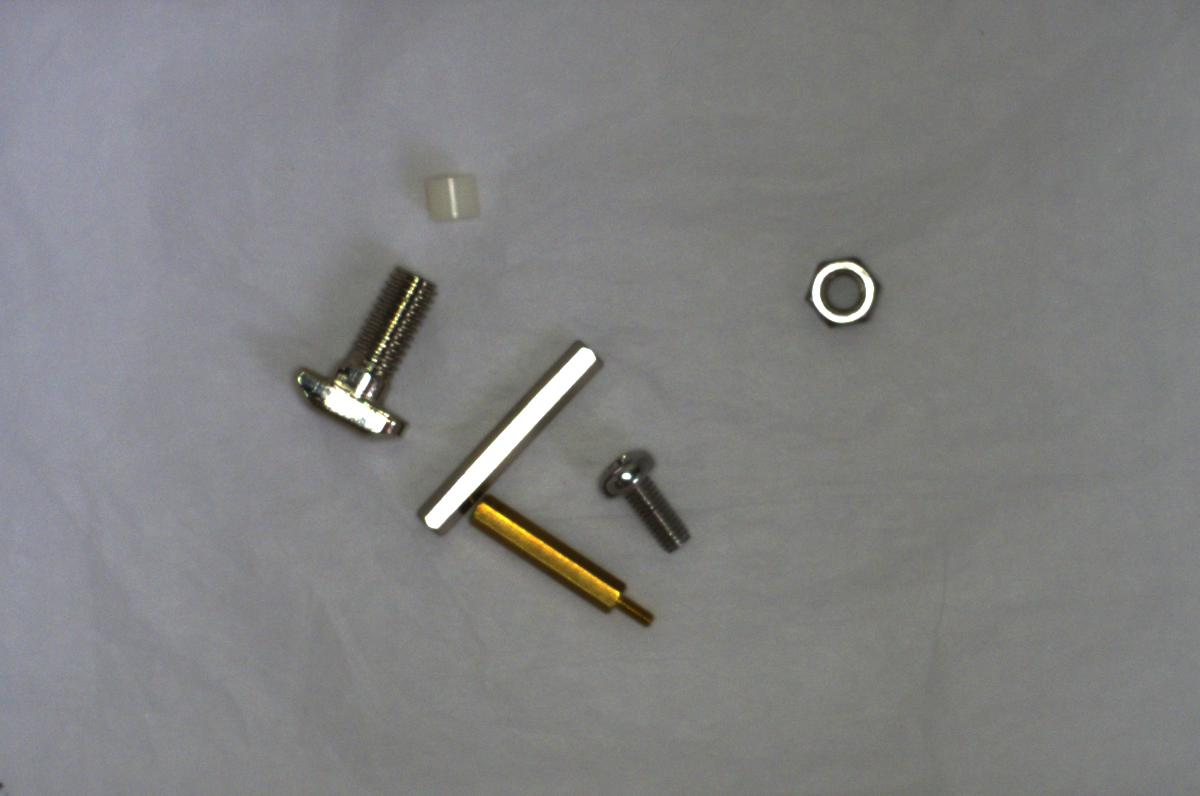Double hexagonal column: (406, 334, 608, 539)
Hexagon nut: (800, 250, 886, 339)
Hexagon pillar: (462, 494, 665, 632)
Plastic cushion pillar: (420, 158, 486, 229)
Round head screw: (599, 440, 700, 556)
T-shaped screw: (280, 267, 431, 439)
